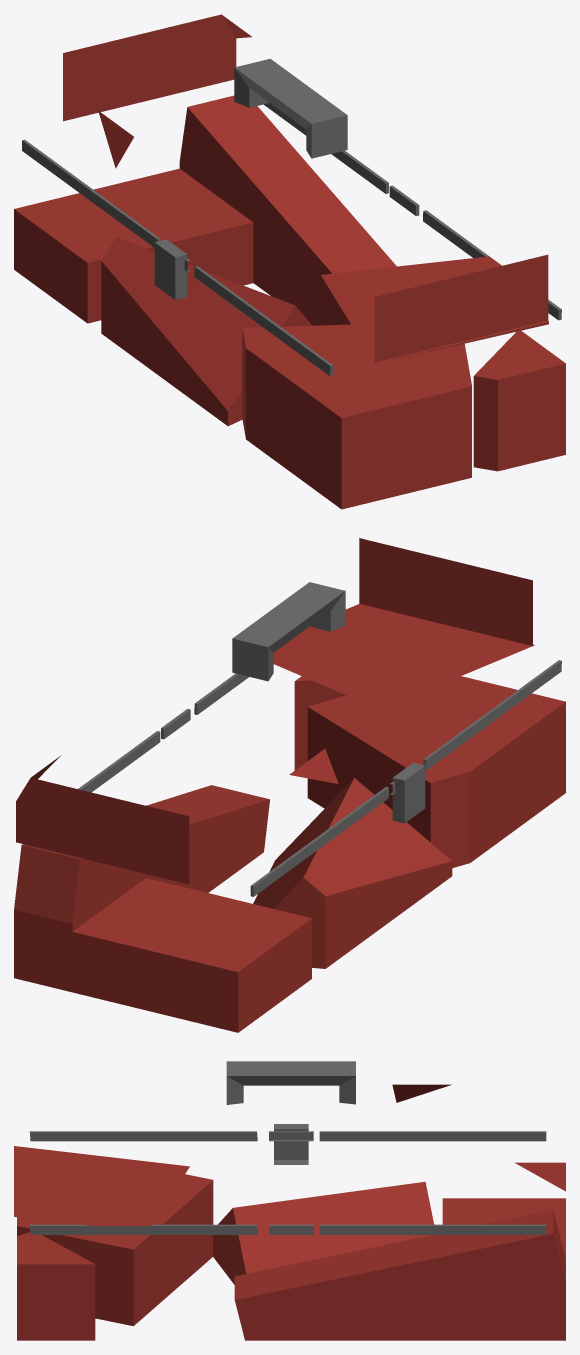
The model's file is Destroyed Toolbox.fbx.
3 renders of one model, top to bottom at view 1: azimuth 30°, elevation 25°; view 2: azimuth 150°, elevation 25°; view 3: azimuth 270°, elevation 25°, orthographic. The views are drawn at different scales.
Parts seen in each view (by area): view 1: Cube.056, Cube.013, Cube.004, Cube.012, Cube.065, Cube.064, Cube.057, Cube.066, Cube.060, Cube.059, Cube.058, Cube.063 (+1 smaller); view 2: Cube.056, Cube.004, Cube.065, Cube.013, Cube.012, Cube.064, Cube.066, Cube.059, Cube.060, Cube.057, Cube.058, Cube.062 (+1 smaller); view 3: Cube.013, Cube.012, Cube.056, Cube.065, Cube.057, Cube.066, Cube.004, Cube.060, Cube.059, Cube.062, Cube.063, Cube.058 (+2 smaller).
Boxes of the visible parts, x1,y1,x2,y2 form: Cube.056: (242, 324, 471, 509); Cube.013: (179, 95, 396, 325); Cube.004: (14, 168, 253, 323); Cube.012: (101, 237, 311, 426); Cube.065: (321, 254, 548, 363); Cube.064: (63, 14, 251, 168); Cube.057: (473, 331, 565, 471); Cube.066: (234, 58, 347, 158); Cube.060: (194, 266, 333, 375); Cube.059: (22, 139, 160, 247); Cube.058: (154, 239, 189, 299); Cube.063: (423, 210, 561, 320); Cube.056: (307, 676, 565, 867); Cube.004: (67, 878, 311, 1032); Cube.065: (273, 538, 534, 709); Cube.013: (14, 785, 269, 991); Cube.012: (253, 778, 452, 968); Cube.064: (16, 748, 338, 884); Cube.066: (232, 582, 345, 681); Cube.059: (250, 787, 388, 896); Cube.060: (423, 660, 561, 770); Cube.057: (294, 676, 345, 770); Cube.058: (390, 762, 425, 823); Cube.062: (78, 731, 160, 792); Cube.013: (234, 1210, 565, 1340); Cube.012: (213, 1181, 434, 1284); Cube.056: (17, 1174, 213, 1326); Cube.065: (14, 1146, 189, 1225); Cube.057: (17, 1232, 95, 1340); Cube.066: (226, 1061, 355, 1104); Cube.004: (442, 1198, 565, 1258); Cube.060: (29, 1131, 257, 1141); Cube.059: (319, 1131, 546, 1141); Cube.062: (319, 1224, 546, 1234); Cube.063: (29, 1224, 257, 1234); Cube.058: (269, 1124, 313, 1164).
Bounding box in the file's own units: 72.57 × 77.94 × 172.
